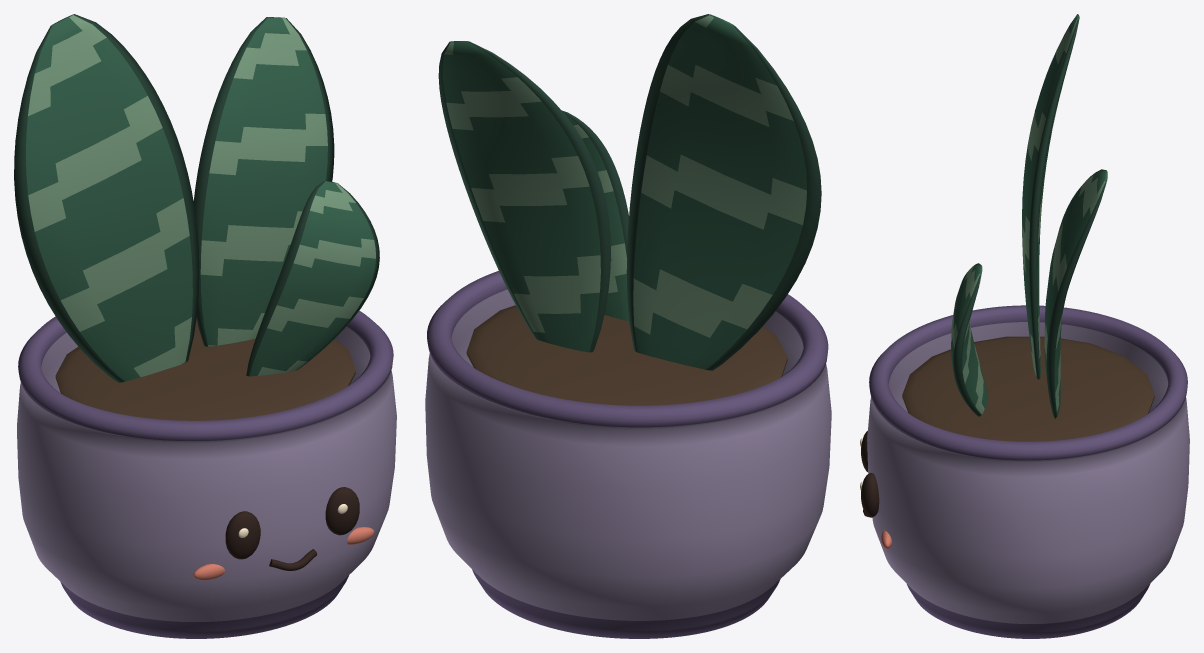
Rendered from whale-fin-v1.glb.
3 views of the same model, side by side, from view 1: azimuth 30°, elevation 25°; view 2: azimuth 150°, elevation 25°; view 3: azimuth 270°, elevation 25° (orthographic). The views are drawn at different scales.
Parts seen in each view (by area): view 1: Wheel-thrown ceramic, Broad paddle with dark rim, Broad paddle with dark rim.001, Soil, Broad paddle with dark rim.002, Eye, Eye.001; view 2: Wheel-thrown ceramic, Broad paddle with dark rim, Broad paddle with dark rim.001, Soil, Broad paddle with dark rim.002; view 3: Wheel-thrown ceramic, Soil, Broad paddle with dark rim, Broad paddle with dark rim.001, Broad paddle with dark rim.002, Eye.001.
Boxes of the visible parts, x1,y1,x2,y2 form: Wheel-thrown ceramic: (17,310,396,638); Broad paddle with dark rim: (14,14,199,382); Broad paddle with dark rim.001: (193,17,334,346); Soil: (55,318,355,420); Broad paddle with dark rim.002: (246,180,379,376); Eye: (225,511,260,559); Eye.001: (325,487,359,535); Wheel-thrown ceramic: (425,271,831,638); Broad paddle with dark rim: (626,14,821,370); Broad paddle with dark rim.001: (438,41,610,352); Soil: (466,305,787,405); Broad paddle with dark rim.002: (562,110,628,320); Wheel-thrown ceramic: (867,305,1189,638); Soil: (902,336,1154,441); Broad paddle with dark rim: (1022,14,1079,379); Broad paddle with dark rim.001: (1044,169,1107,418); Broad paddle with dark rim.002: (951,263,988,416); Eye.001: (861,473,879,517).
Size of the model in its own units: 1.71 by 2.67 by 1.53.
